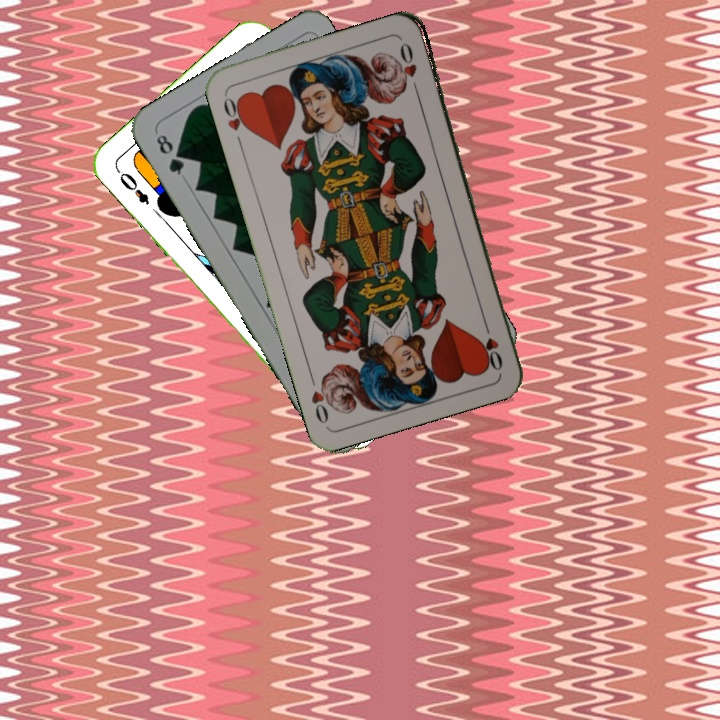EO: (112, 165, 152, 208)
G8: (152, 130, 187, 178)
HO: (219, 91, 252, 149), (479, 315, 505, 374)
